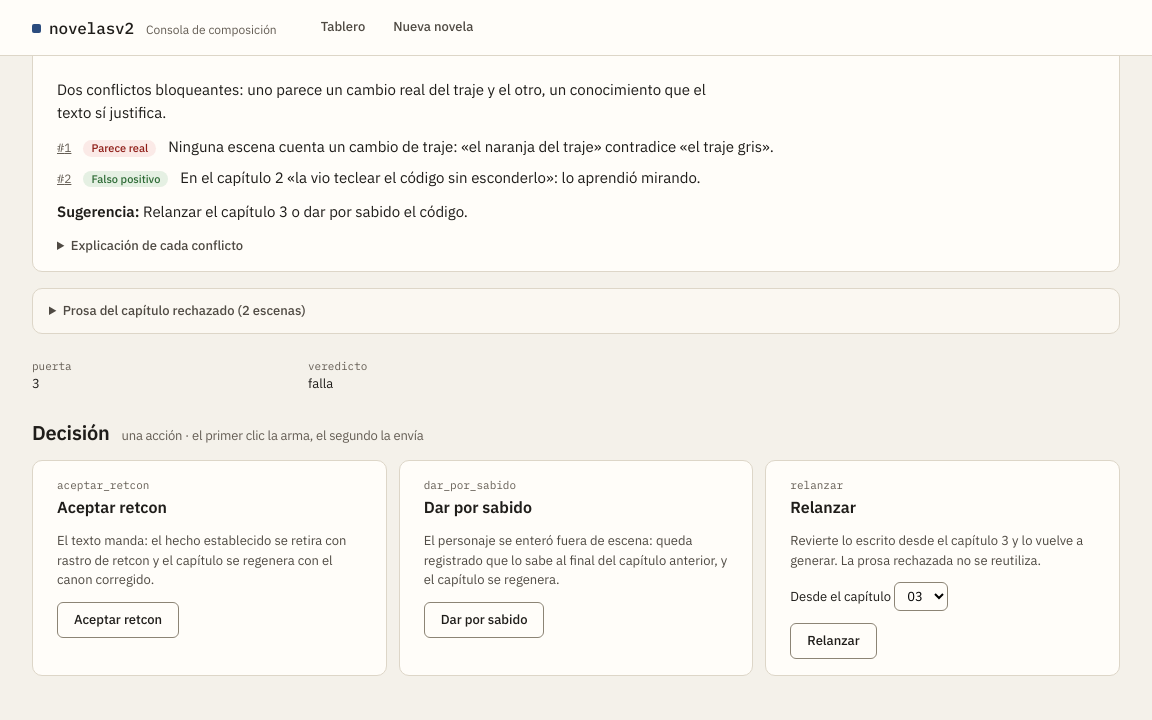
decisión de la parada (RF-FE-PAR-02 a RF-FE-PAR-04) › el primer clic arma la acción, Escape la desarma y el segundo clic la envía
The width and height of the screenshot is (1152, 720).
(page scrolled)
Click the button "Aceptar retcon" at x=118, y=620, box [57,602,179,638]
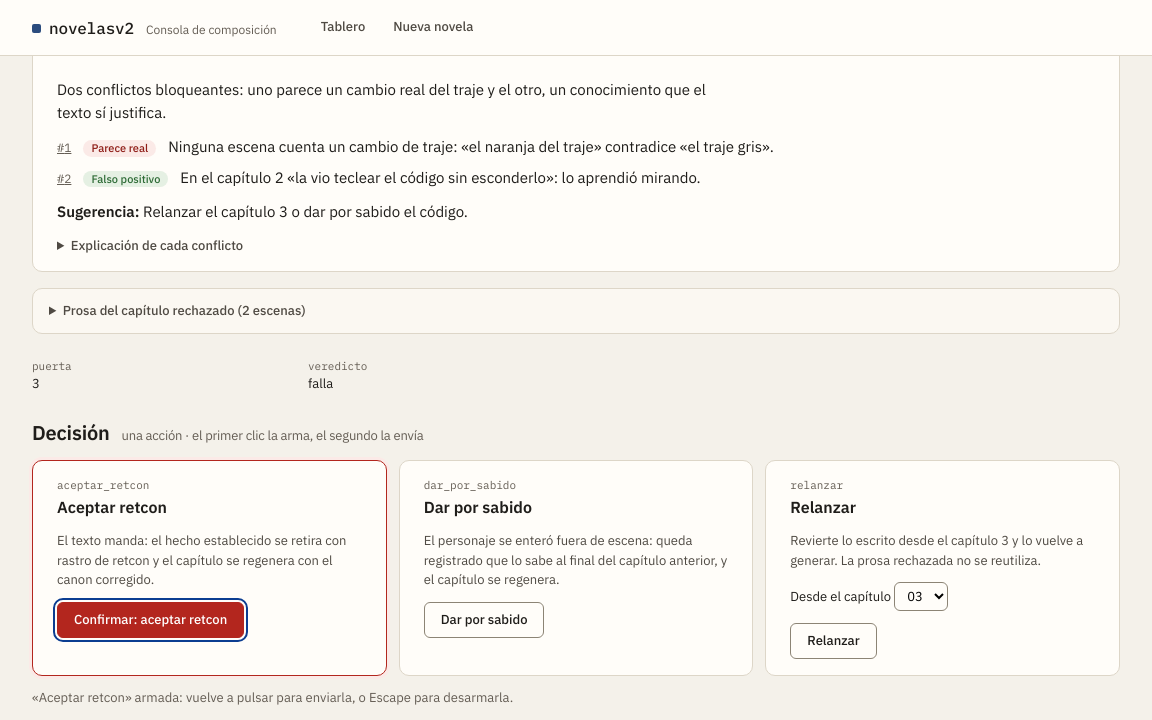
Now the button "Confirmar: aceptar retcon" is shown, box [57,602,244,638]
Press Escape
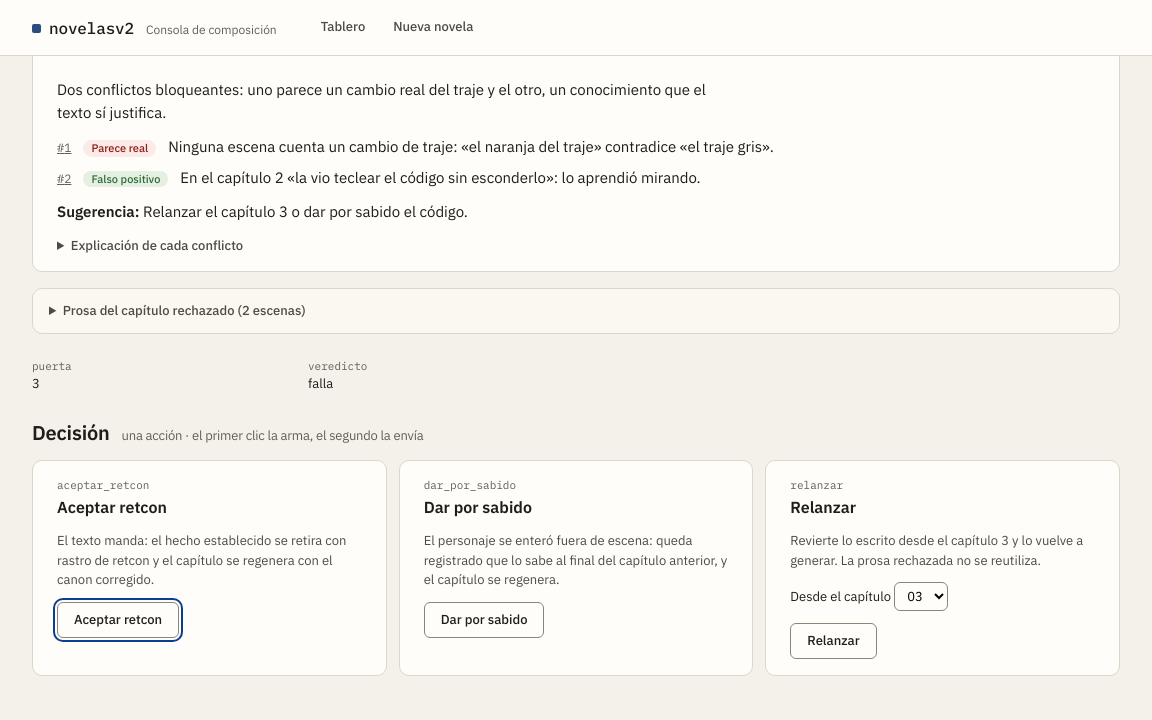
Click the button "Aceptar retcon" at x=118, y=620, box [57,602,179,638]
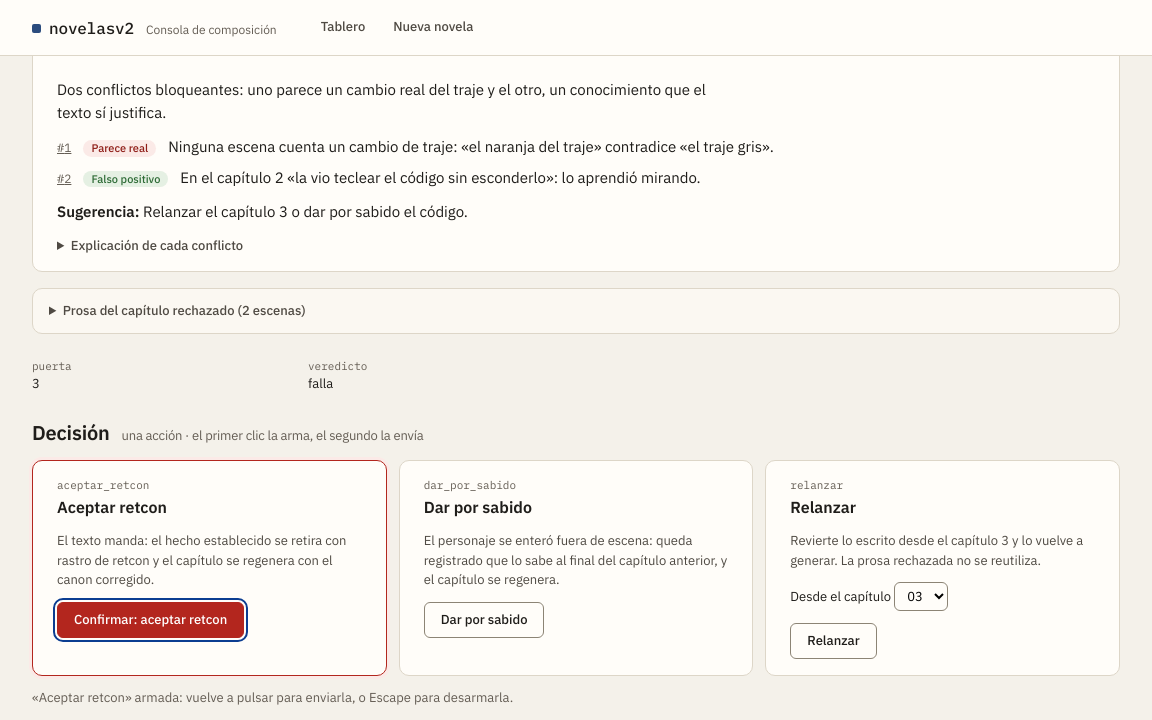
Click the button "Confirmar: aceptar retcon" at x=151, y=620, box [57,602,244,638]
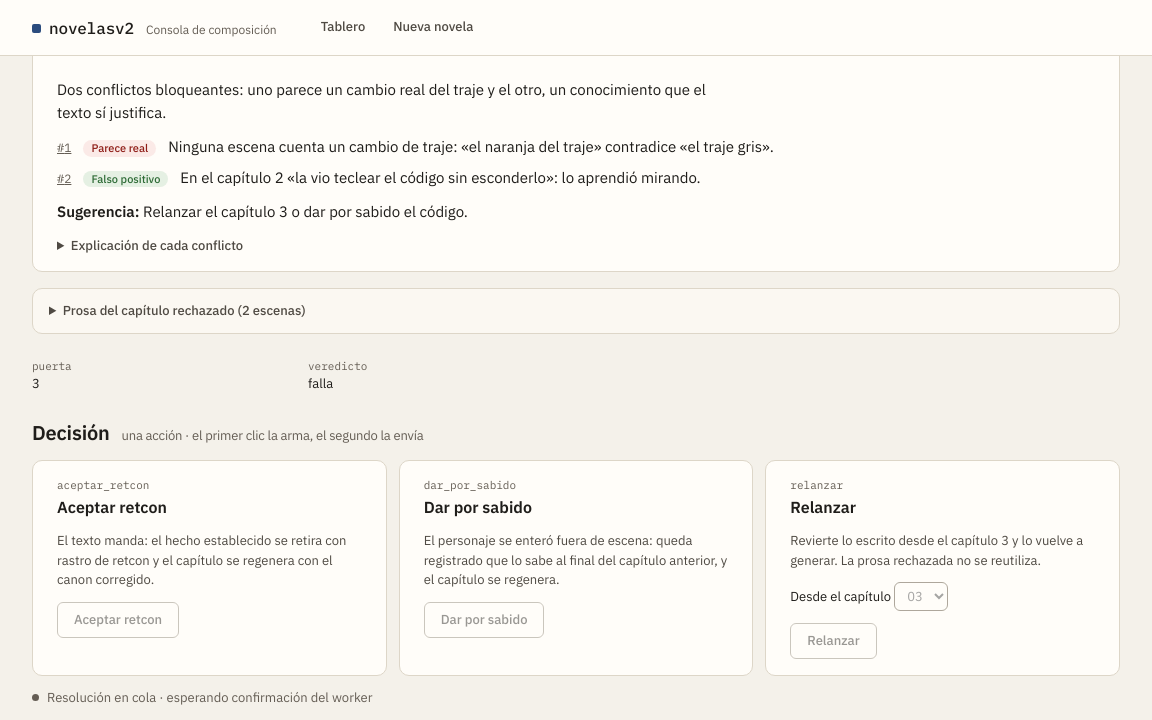
Now the text "Resolución en cola · esperando confirmación del worker" is shown, box [32,689,372,706]
